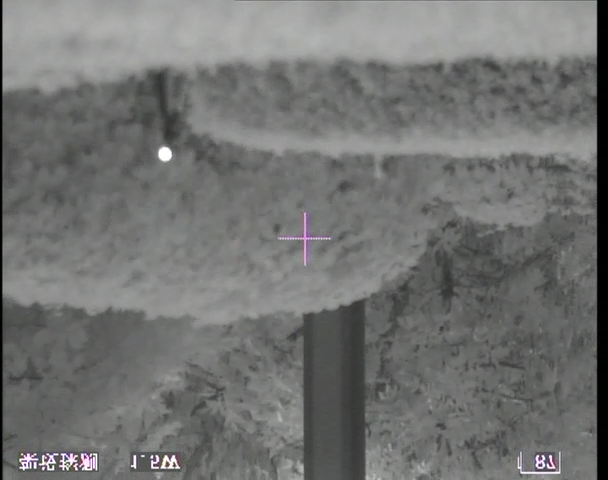my: (156, 146, 173, 163)
